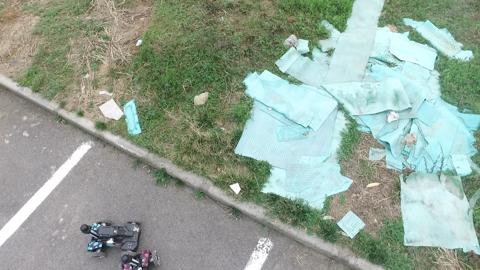chariot: (74, 215, 153, 258)
